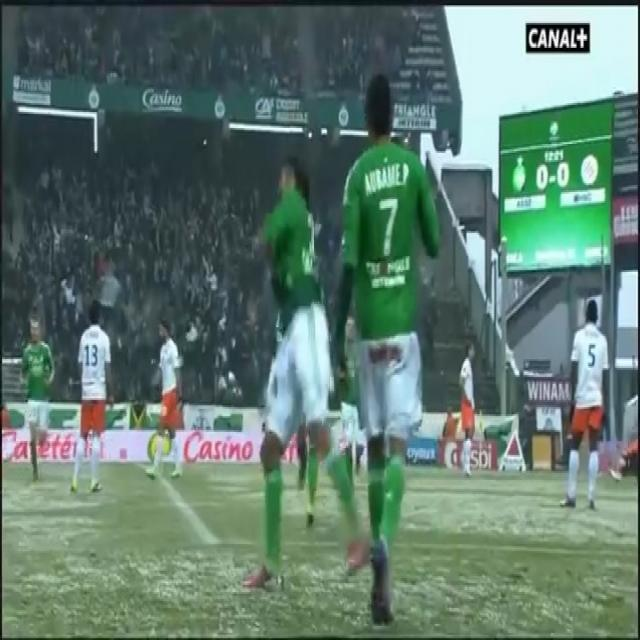player: (225, 85, 372, 590), (329, 54, 447, 600), (554, 270, 627, 505), (67, 296, 129, 504), (135, 301, 190, 497), (453, 316, 502, 531), (18, 308, 58, 488)
